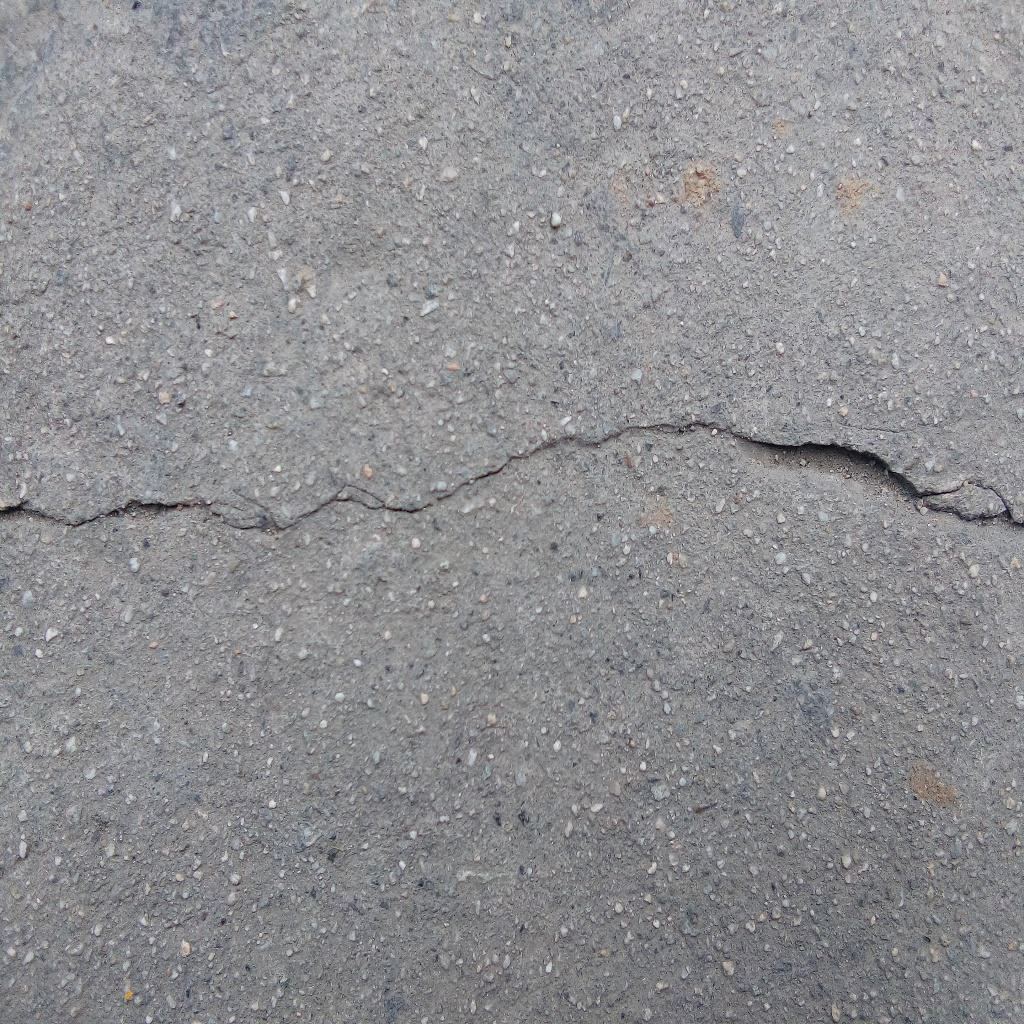Crack: (1, 416, 1024, 533)
